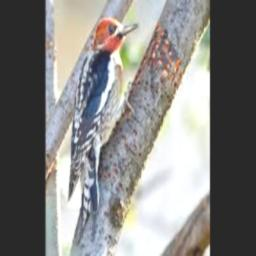Woodpecker: (68, 17, 139, 244)
